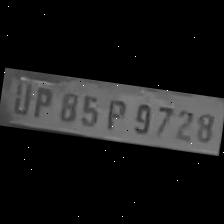2: (169, 104, 195, 142)
5: (74, 90, 104, 128)
7: (150, 102, 175, 138)
8: (52, 87, 80, 124), (192, 108, 216, 144)
9: (126, 98, 155, 136)
P: (99, 94, 129, 132), (28, 84, 56, 120)
U: (6, 78, 32, 116)
